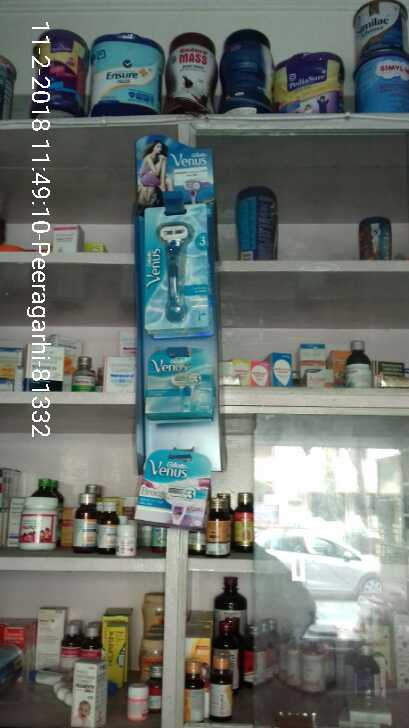venus: (144, 201, 211, 335), (133, 450, 211, 535), (143, 340, 214, 417)
